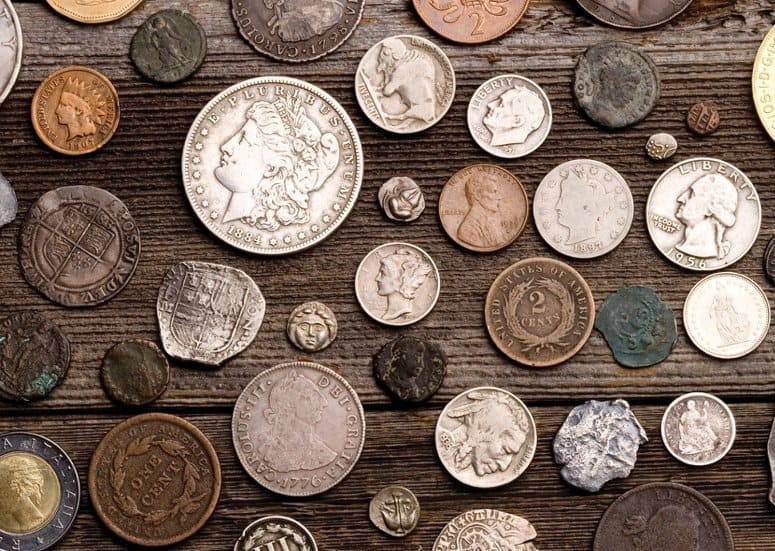coin: (181, 74, 366, 255), (85, 412, 221, 551), (232, 360, 366, 496), (18, 184, 141, 308), (645, 156, 762, 271), (484, 256, 596, 367), (156, 260, 267, 367), (585, 480, 737, 551), (434, 385, 537, 488), (534, 159, 636, 263), (1, 427, 83, 551), (353, 36, 456, 133), (437, 163, 530, 254), (230, 1, 366, 63), (571, 40, 660, 129), (682, 271, 771, 360), (30, 67, 120, 154), (466, 73, 552, 159), (353, 245, 441, 328), (1, 311, 71, 401), (129, 7, 208, 82), (659, 391, 737, 465), (407, 1, 531, 45), (425, 507, 544, 551), (371, 335, 448, 403), (98, 338, 168, 408), (566, 1, 693, 28), (232, 515, 320, 551), (285, 298, 342, 352), (750, 20, 775, 141), (367, 485, 420, 537), (1, 1, 24, 105), (377, 175, 426, 222), (49, 1, 145, 23), (1, 170, 17, 228), (764, 234, 775, 282)
